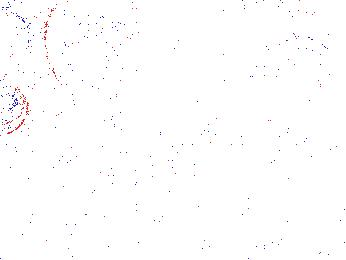moon jellyfish: (44, 1, 126, 96), (256, 36, 340, 79), (1, 10, 31, 76), (1, 75, 30, 136)
